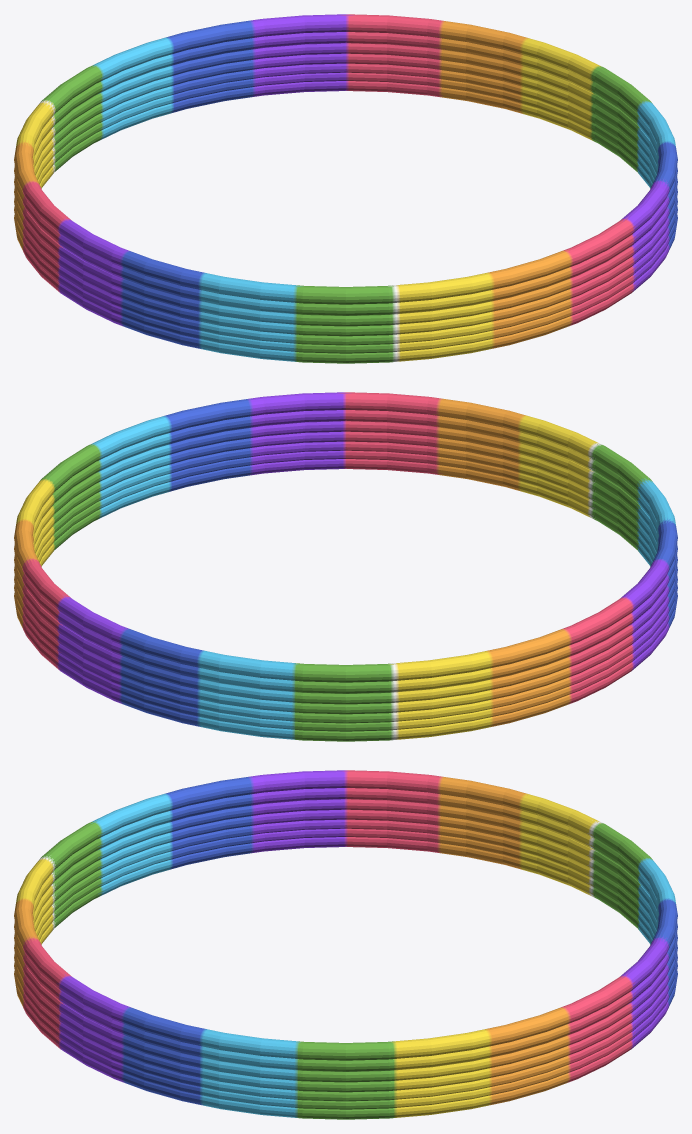
The model's file is GÖKKUŞAĞI 2.fbx.
3 views of the same model, one above another, from view 1: azimuth 30°, elevation 25°; view 2: azimuth 150°, elevation 25°; view 3: azimuth 270°, elevation 25° (orthographic).
Parts seen in each view (by area): view 1: Torus; view 2: Torus; view 3: Torus.
Part boxes in pixels (bbox=[...]): Torus: bbox=[14, 14, 677, 363]; Torus: bbox=[14, 392, 677, 741]; Torus: bbox=[14, 770, 677, 1119].
Bounding box in the file's own units: 44.26 × 5.5 × 44.26.
